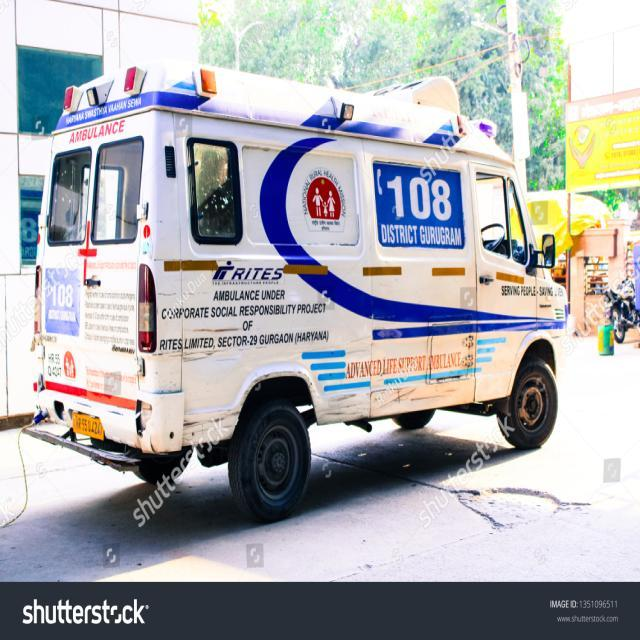ambulance: (37, 54, 572, 477)
